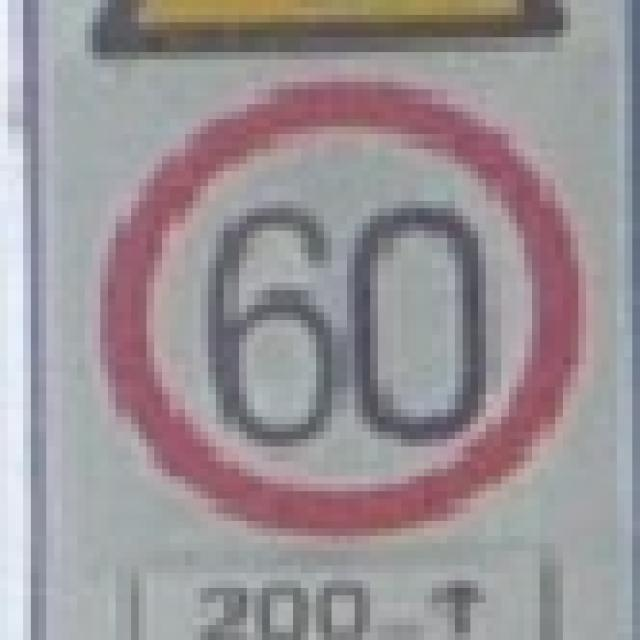Speed Limit -60-: (204, 198, 496, 448)
